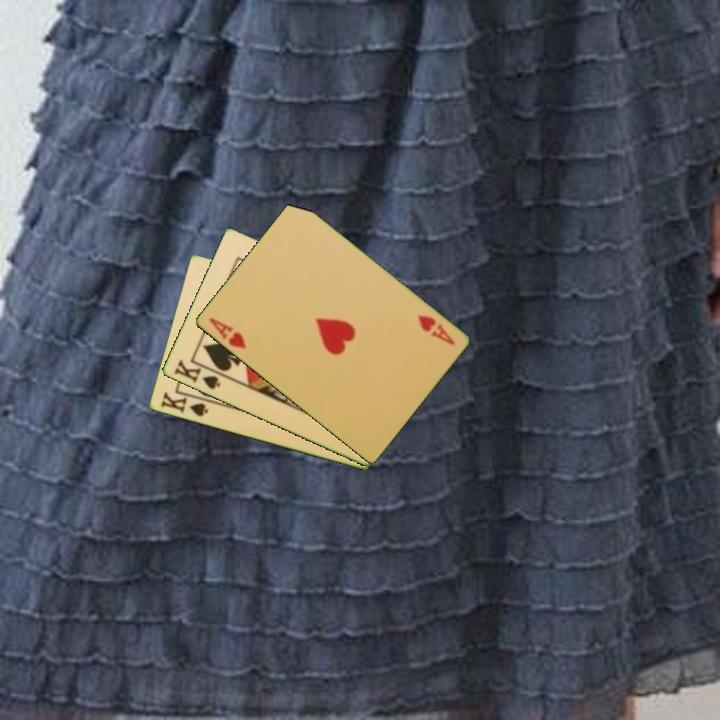Ah: (205, 314, 249, 352), (413, 311, 458, 348)
Ks: (170, 356, 227, 392), (157, 388, 213, 420)
